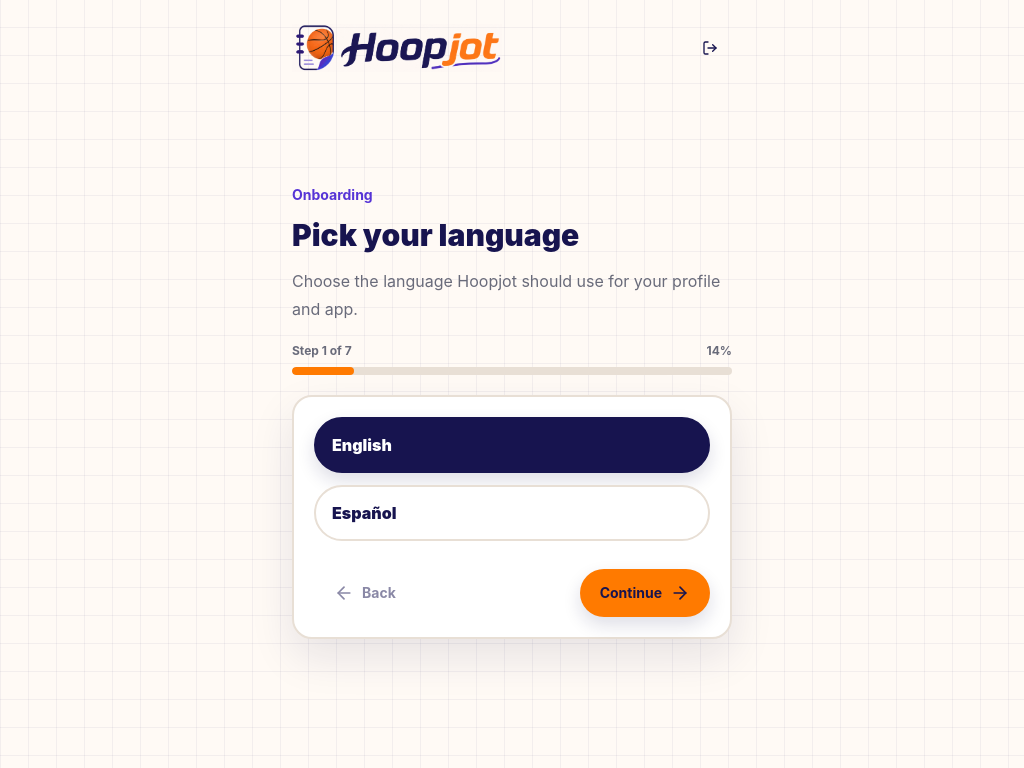
Test: OnboardingRoute › switches locale immediately
Expected: the heading "Pick your language" is shown, [292,217,579,253]
Click the button "Español". click: (364, 513)
box: [314,485,710,541]
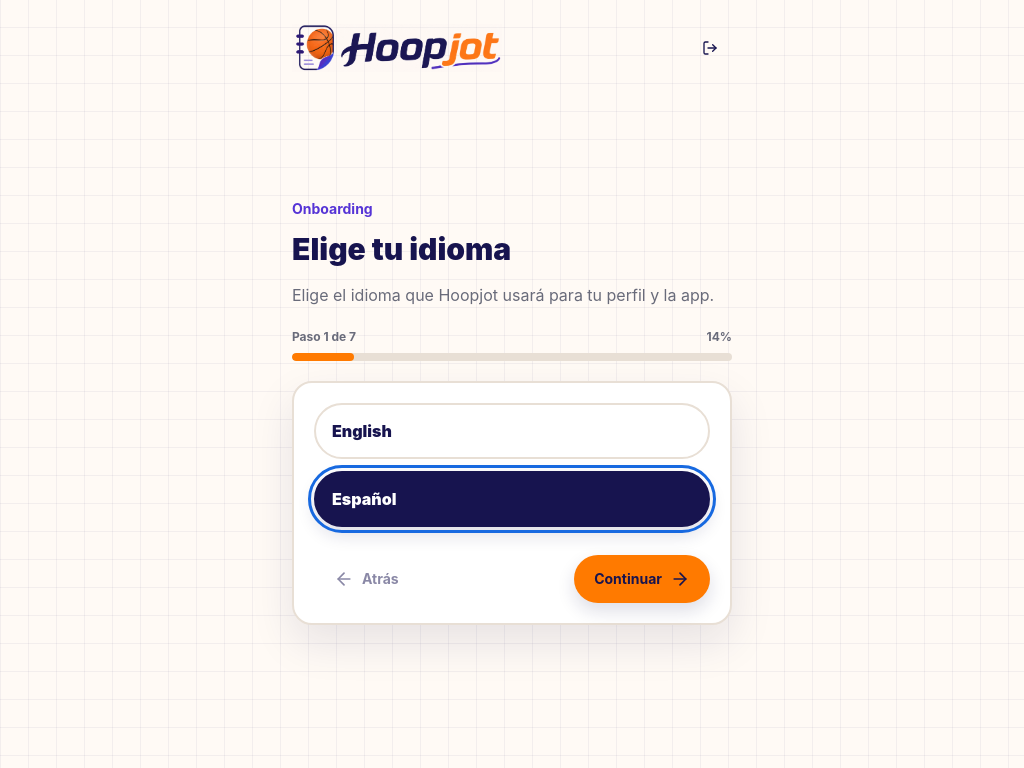
Now the heading "Elige tu idioma" is shown, box [292,231,511,267]
